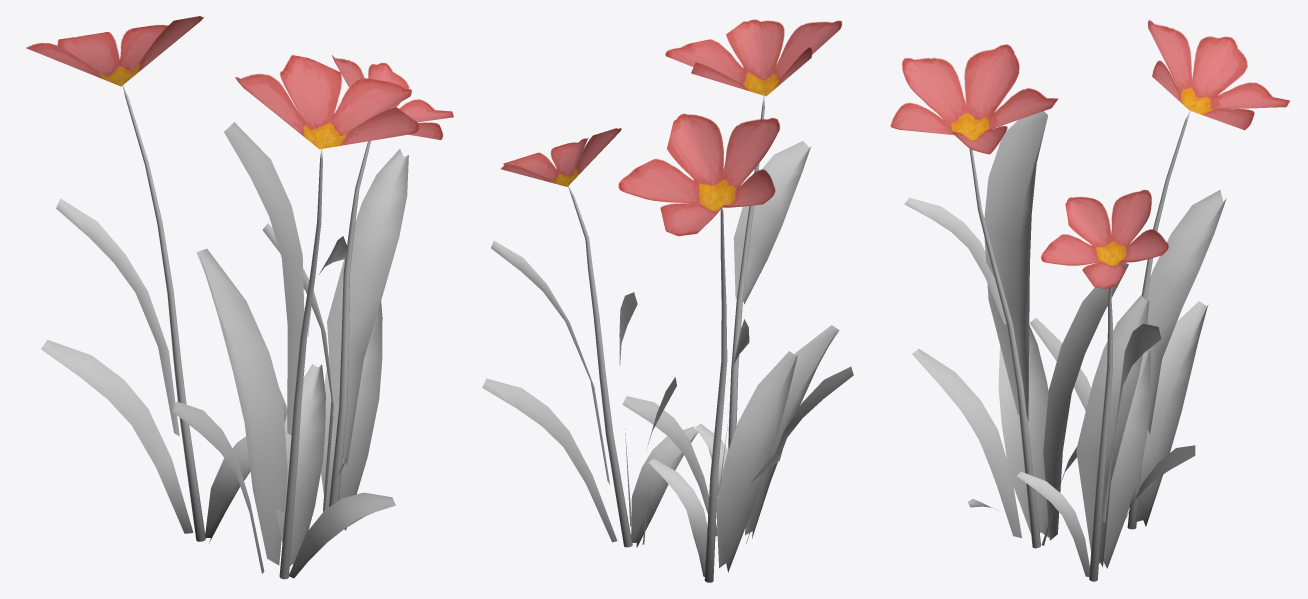
The model's file is flowers_a.gltf.
The picture shows the model from 3 angles, left to right: view 1: azimuth 30°, elevation 25°; view 2: azimuth 150°, elevation 25°; view 3: azimuth 270°, elevation 25°; orthographic projection. The views are drawn at different scales.
Parts seen in each view (by area): view 1: Flower_3_Group; view 2: Flower_3_Group; view 3: Flower_3_Group.
Part boxes in pixels (x1=…): Flower_3_Group: x1=26, y1=16, x2=453, y2=579; Flower_3_Group: x1=482, y1=19, x2=853, y2=582; Flower_3_Group: x1=890, y1=20, x2=1289, y2=581.
Size of the model in its own units: 1.49 by 2.05 by 1.59.
